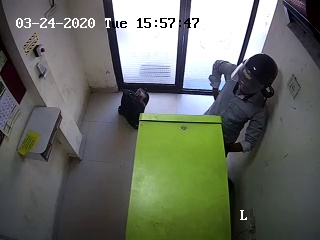helmet: (230, 54, 281, 109)
